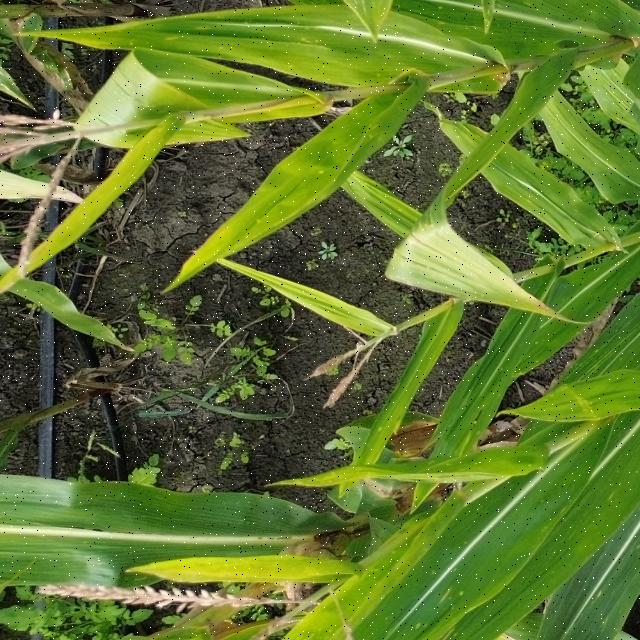gray-leaf-spot: (151, 13, 271, 43)
northern-leaf-blight: (6, 26, 64, 90), (352, 465, 412, 518)
southern-leaf-blight: (404, 572, 468, 631), (398, 222, 465, 273), (573, 327, 634, 380), (362, 546, 406, 600), (422, 456, 495, 484)
